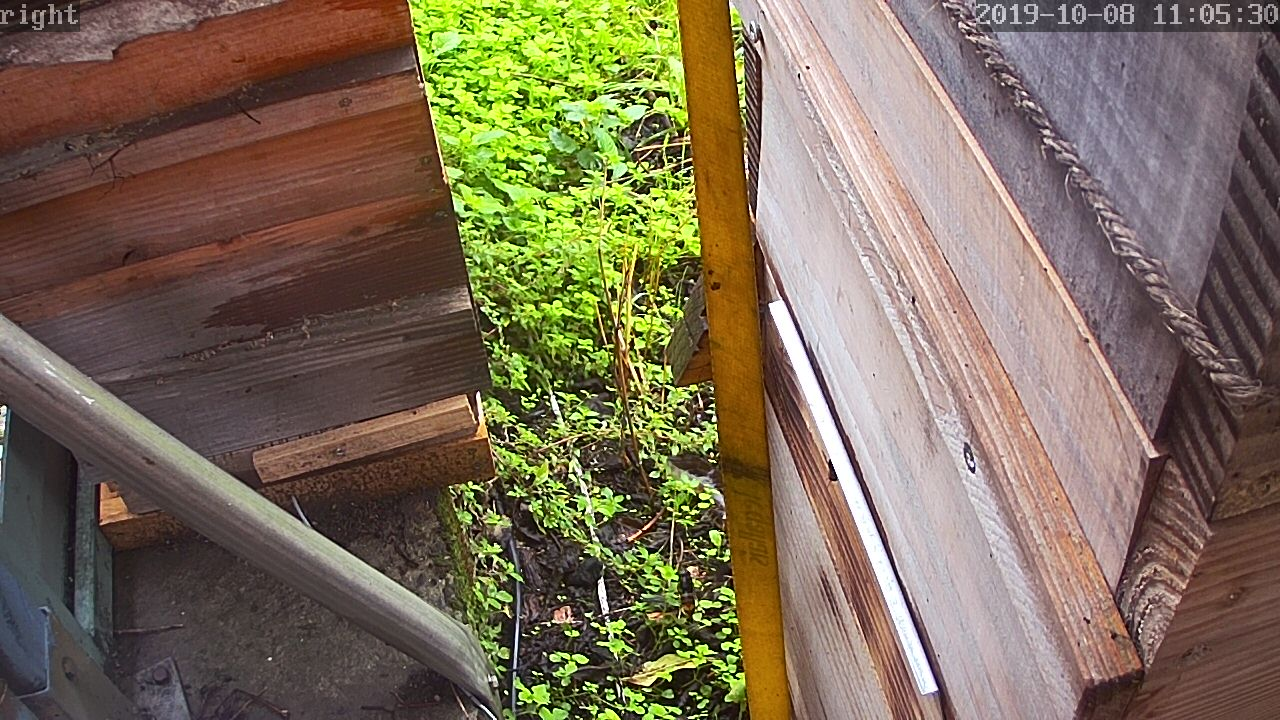bee: (819, 456, 841, 489)
hornet: (668, 566, 707, 624)
